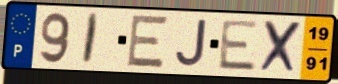9: (38, 11, 72, 65)
E: (125, 13, 171, 70), (217, 19, 261, 73)
I: (80, 12, 102, 67)
J: (174, 18, 209, 70)
X: (258, 19, 305, 76)
